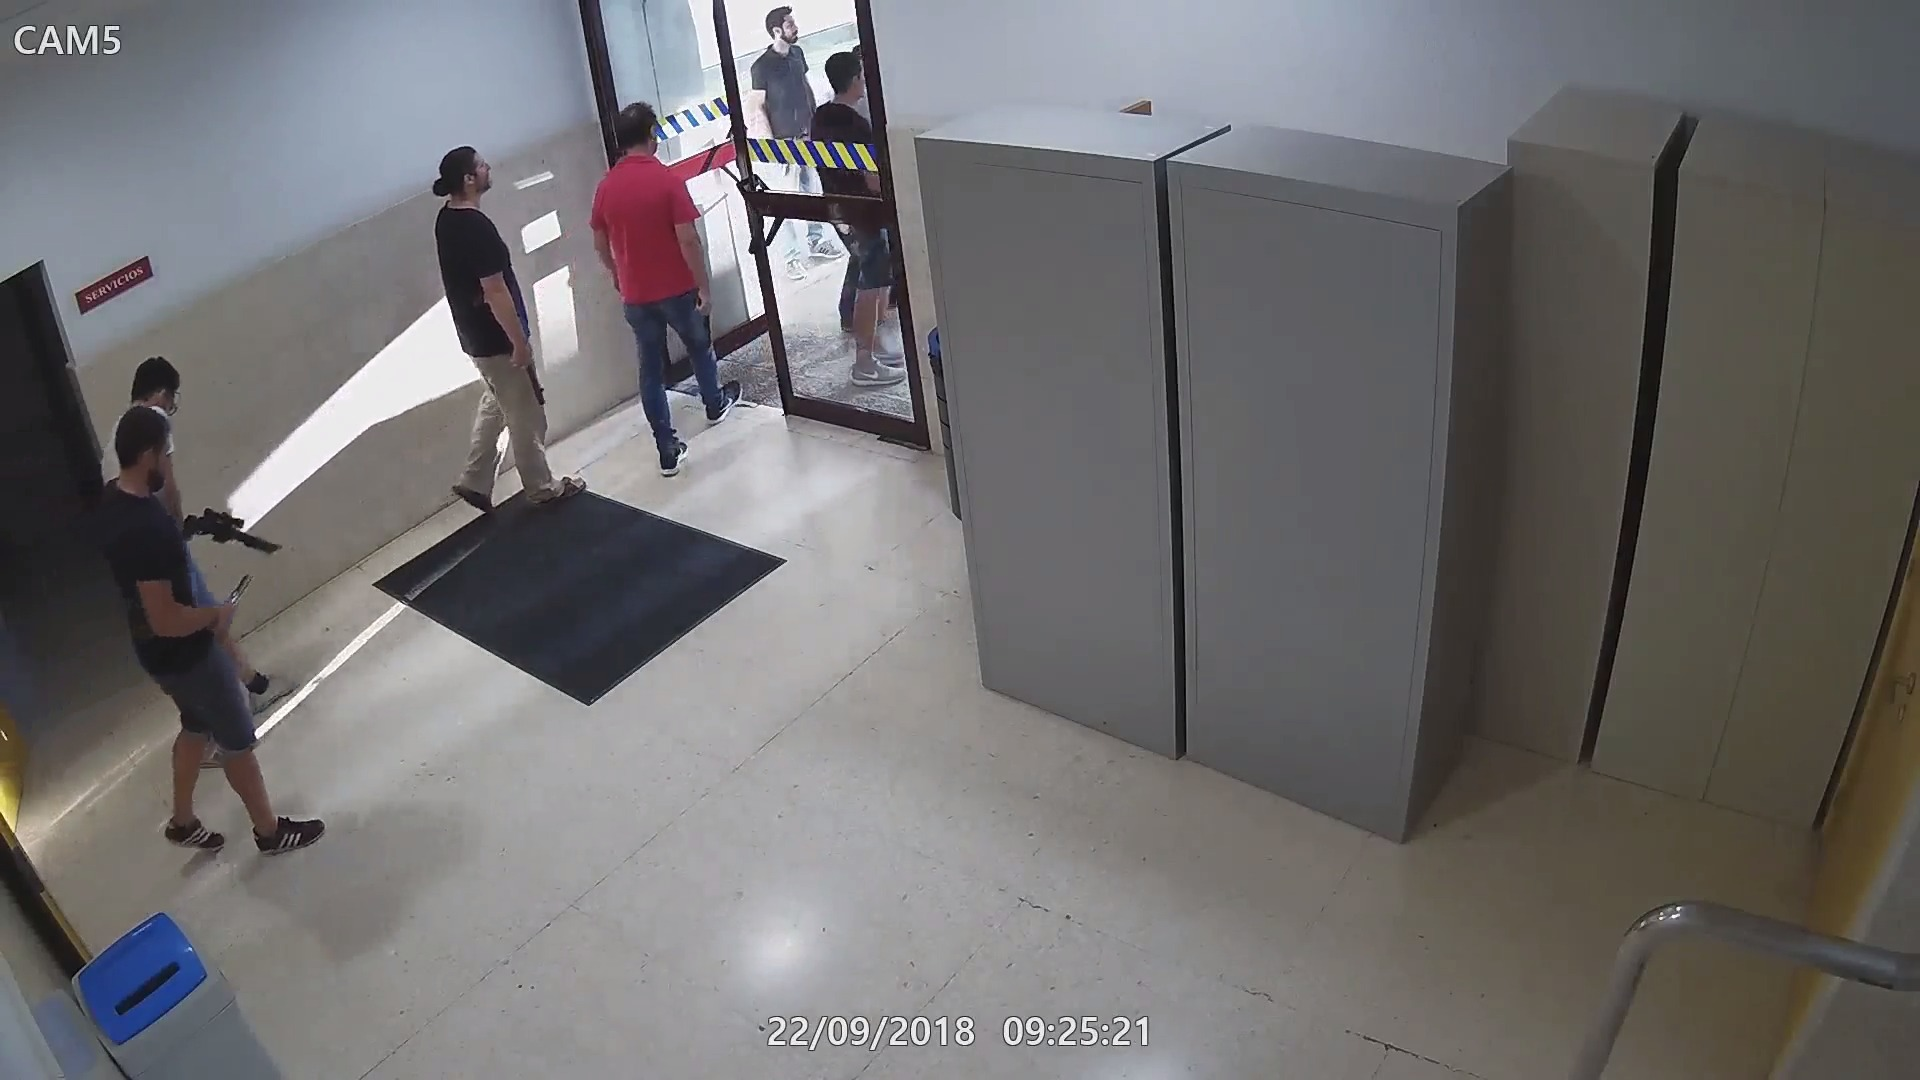Handgun: (212, 568, 249, 647), (687, 282, 720, 345)
Short_rifle: (179, 497, 290, 564), (506, 328, 556, 404)
